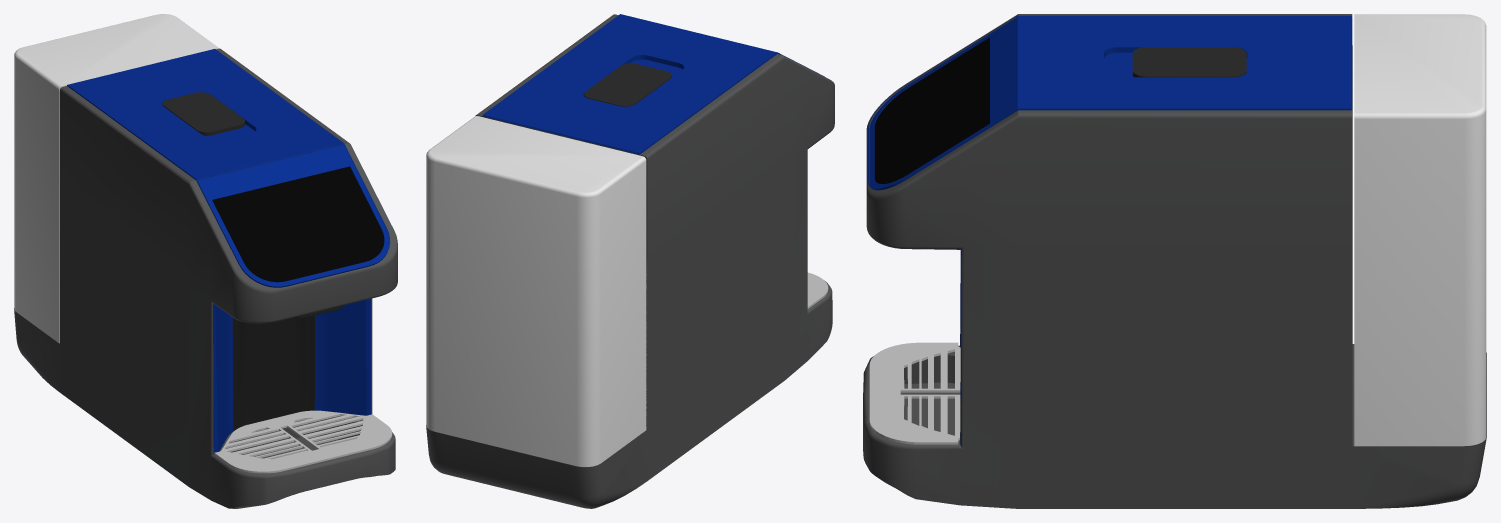
3 renders of one model, left to right at view 1: azimuth 30°, elevation 25°; view 2: azimuth 150°, elevation 25°; view 3: azimuth 270°, elevation 25°, orthographic. The views are drawn at different scales.
Parts seen in each view (by area): view 1: Cube, Cube.001, Cube.005, Cube.006; view 2: Cube, Cube.001, Cube.006, Cube.005; view 3: Cube, Cube.001, Cube.005, Cube.006.
Boxes of the visible parts, left/top/right/bottom form: Cube: left=14, top=48, right=397, bottom=508; Cube.001: left=14, top=14, right=219, bottom=343; Cube.005: left=214, top=410, right=392, bottom=473; Cube.006: left=162, top=92, right=244, bottom=135; Cube: left=426, top=14, right=834, bottom=508; Cube.001: left=426, top=116, right=646, bottom=466; Cube.006: left=584, top=63, right=671, bottom=106; Cube.005: left=807, top=272, right=828, bottom=308; Cube: left=863, top=14, right=1486, bottom=508; Cube.001: left=1354, top=14, right=1486, bottom=446; Cube.005: left=869, top=342, right=960, bottom=444; Cube.006: left=1132, top=47, right=1246, bottom=77.
Bounding box in the file's own units: 42.17 × 76.22 × 109.
